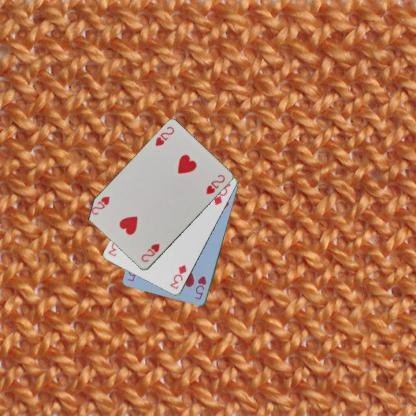2h: (152, 124, 176, 148), (138, 241, 160, 263)
3d: (167, 262, 188, 290)
5h: (192, 273, 208, 301)
